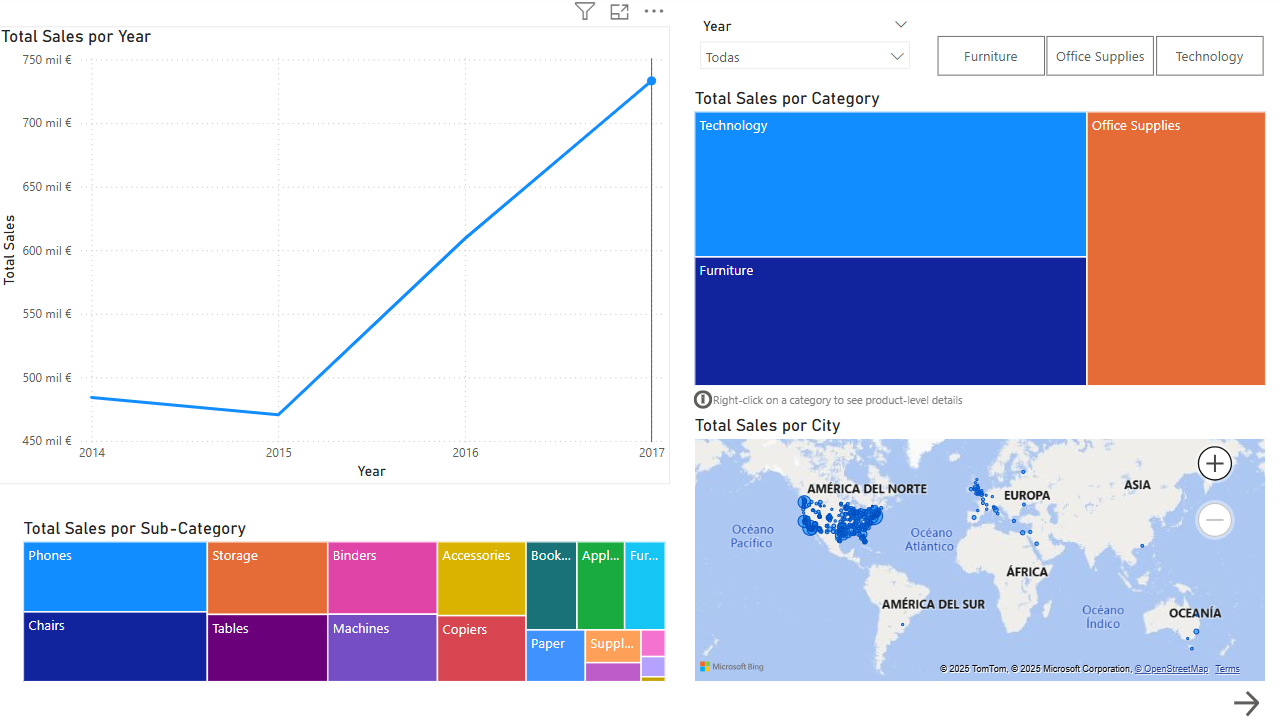

What the dashboard file says about the page in this screenshot:
{"tool":"powerbi","page":{"name":"Sales Analysis","canvas":[1280,720],"ordinal":1},"visuals":[{"type":"lineChart","fields":{"Y":["Sample - Superstore.Total Sales"],"Category":["Calendar.Year"]},"box":[0,30.4,668.4,454.3],"z":0},{"type":"treemap","fields":{"Group":["Sample - Superstore.Category"],"Values":["Sample - Superstore.Total Sales"]},"box":[688.5,91.9,576.4,300.8],"z":1000},{"type":"slicer","fields":{"Values":["Calendar.Year"]},"box":[688.6,17.4,228.6,69.4],"z":2000},{"type":"treemap","fields":{"Values":["Sample - Superstore.Total Sales"],"Group":["Sample - Superstore.Sub-Category"]},"box":[21.7,517.9,646.7,167.8],"z":3000},{"type":"map","fields":{"Category":["Sample - Superstore.City"],"Size":["Sample - Superstore.Total Sales"]},"box":[688.6,416.6,575.8,269.1],"z":4000},{"type":"slicer","fields":{"Values":["Sample - Superstore.Category"]},"box":[907.1,33.3,373.2,53.5],"z":5000},{"type":"actionButton","box":[1222.4,685.7,42,34.7],"z":6000},{"type":"actionButton","box":[688.5,387.6,274.6,26.2],"z":7000}]}

Visuals, with their boxes in screenshot pixels (x1, y1, x2, y2), scaled from the page's 1280x720 canvas onto the 1285x721 screenshot:
lineChart - Sample - Superstore.Total Sales x Calendar.Year: pyautogui.locateOnScreen(0, 30, 671, 485)
treemap - Sample - Superstore.Category x Sample - Superstore.Total Sales: pyautogui.locateOnScreen(691, 92, 1270, 393)
slicer - Calendar.Year: pyautogui.locateOnScreen(691, 17, 921, 87)
treemap - Sample - Superstore.Total Sales x Sample - Superstore.Sub-Category: pyautogui.locateOnScreen(22, 519, 671, 687)
map - Sample - Superstore.City x Sample - Superstore.Total Sales: pyautogui.locateOnScreen(691, 417, 1269, 687)
slicer - Sample - Superstore.Category: pyautogui.locateOnScreen(911, 33, 1284, 87)
actionButton: pyautogui.locateOnScreen(1227, 687, 1269, 720)
actionButton: pyautogui.locateOnScreen(691, 388, 967, 414)
